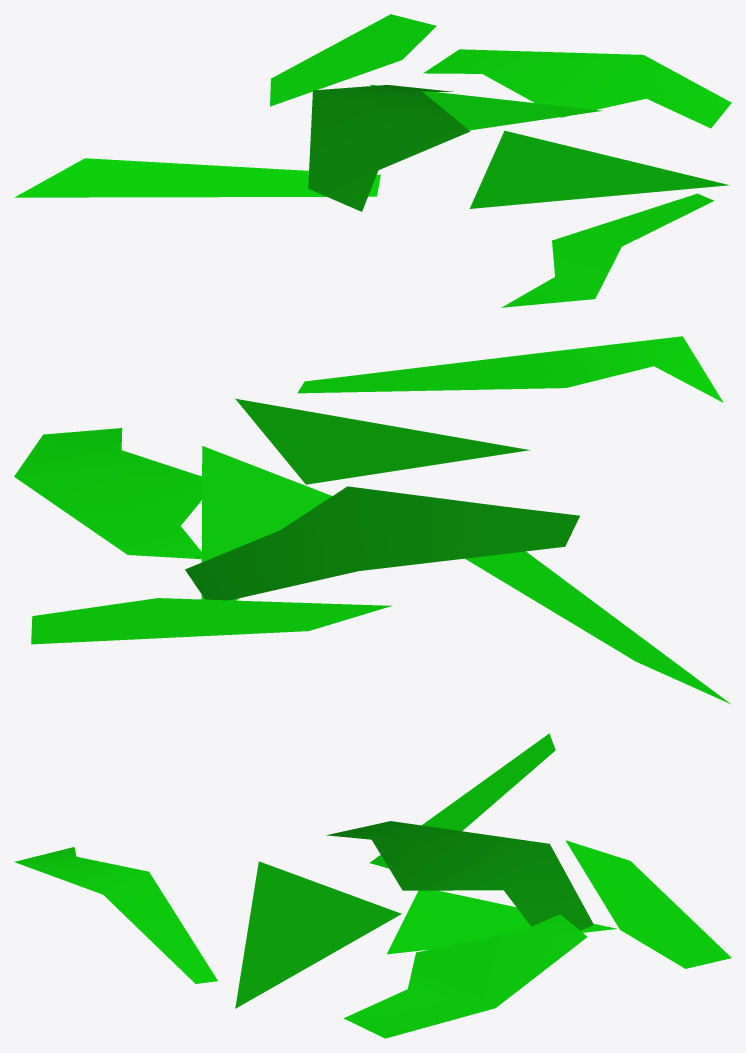
File: scvhd_Var8_LOD0.fbx
3 views of the same model, one above another, from view 1: azimuth 30°, elevation 25°; view 2: azimuth 150°, elevation 25°; view 3: azimuth 270°, elevation 25° (orthographic). The views are drawn at different scales.
Visible parts, largest first — view 1: _e511_Var8_LOD0; view 2: _e511_Var8_LOD0; view 3: _e511_Var8_LOD0.
Part boxes in pixels (<box>): _e511_Var8_LOD0: <box>14,14,731,307</box>; _e511_Var8_LOD0: <box>14,336,731,704</box>; _e511_Var8_LOD0: <box>14,733,731,1038</box>.
Bounding box in the file's own units: 44.77 × 2.81 × 44.37.
